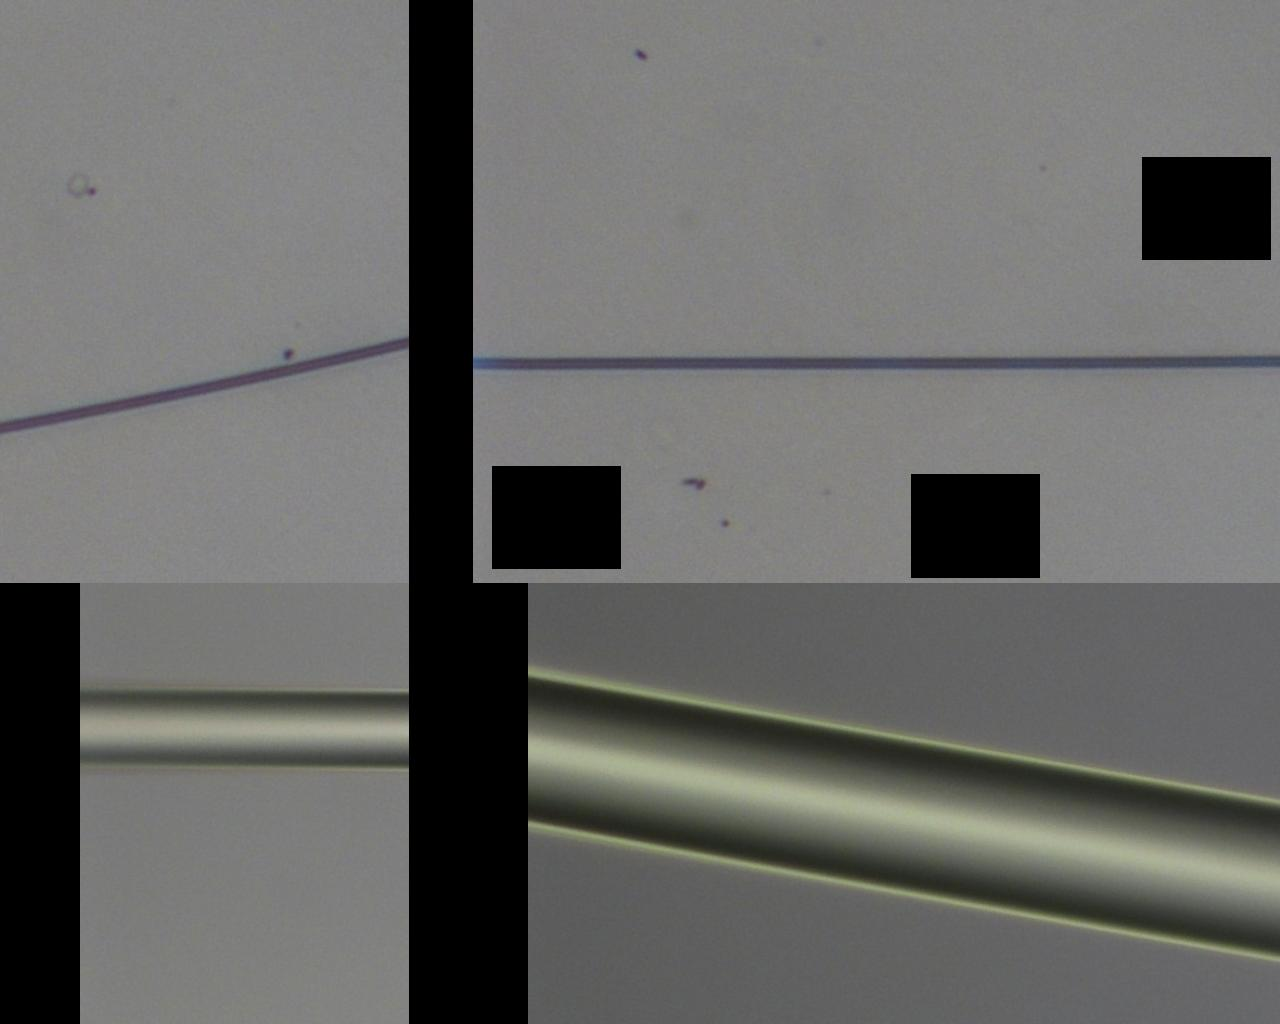fiber: (528, 668, 1280, 960), (0, 335, 409, 432), (80, 684, 409, 762), (473, 349, 1280, 370)
